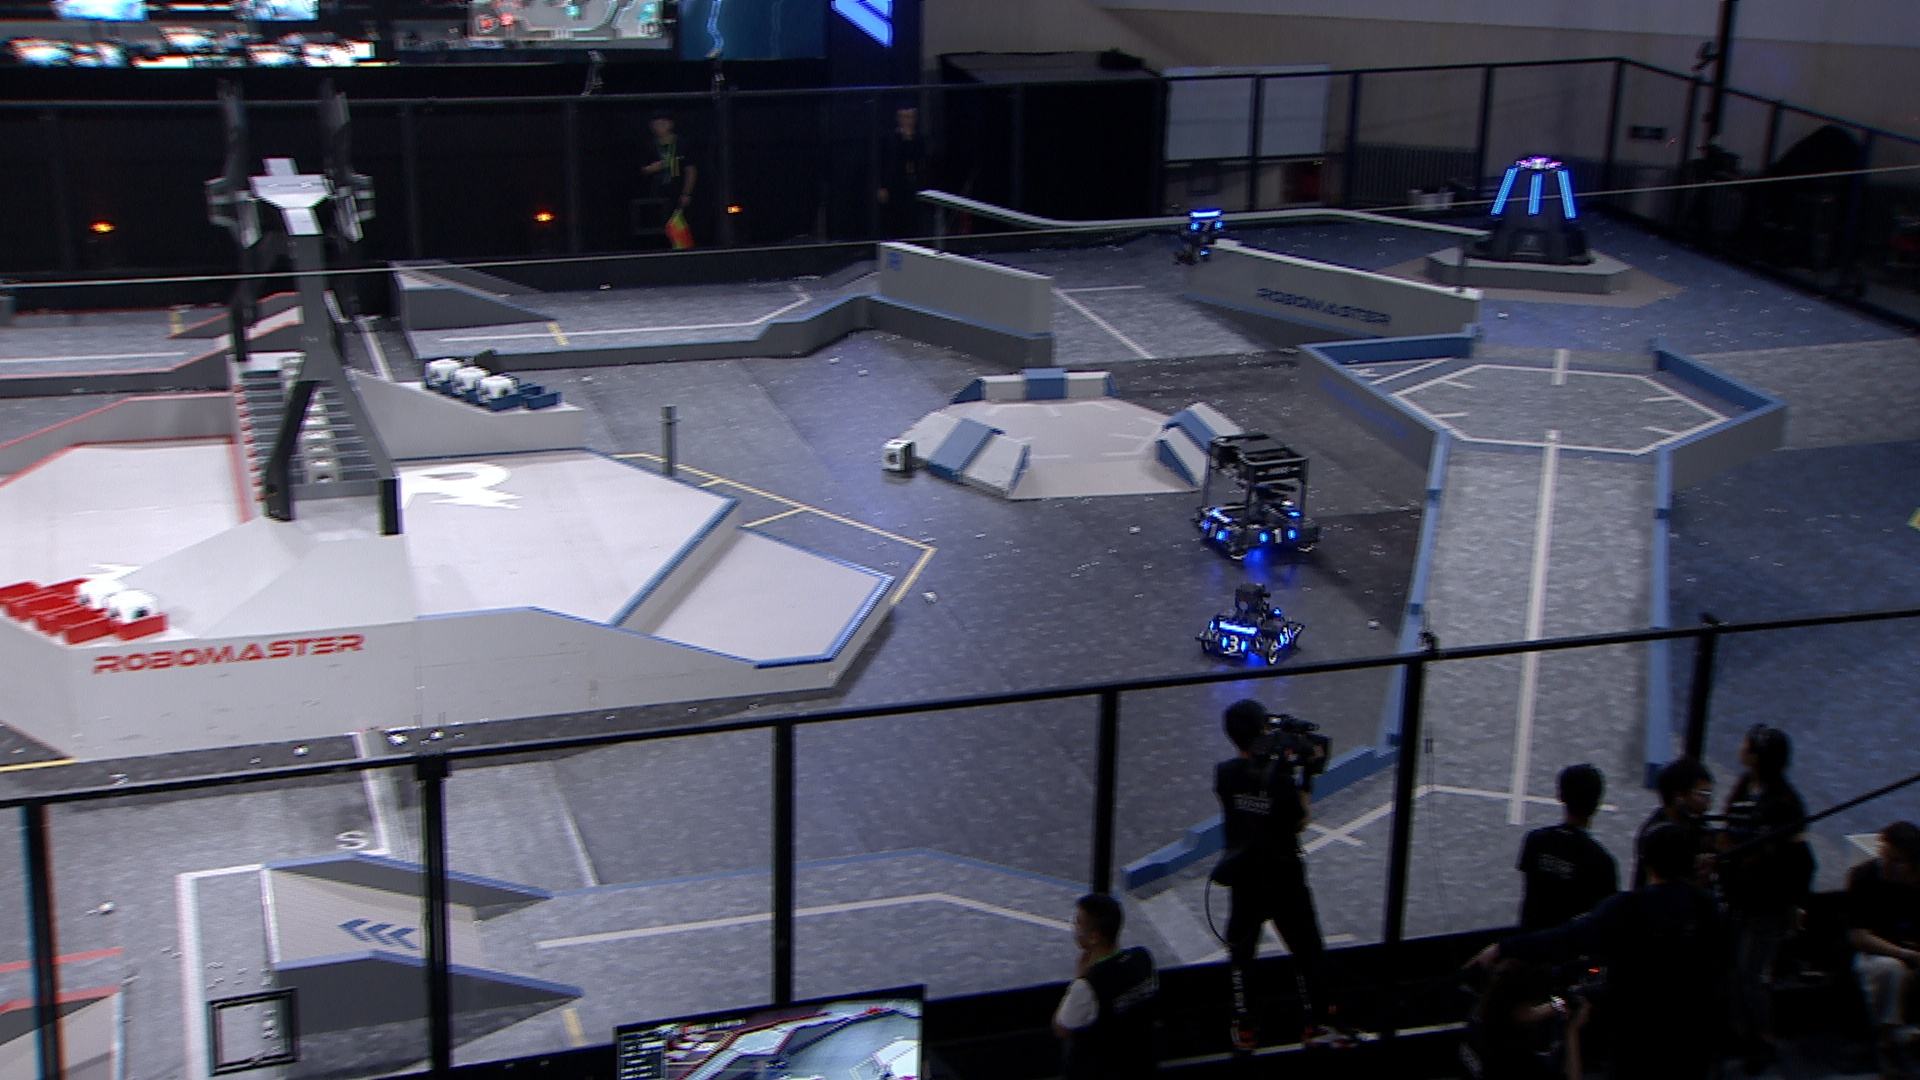armor: (1490, 164, 1520, 216), (1556, 169, 1578, 219), (1524, 169, 1544, 216), (1187, 215, 1226, 233), (1220, 632, 1249, 655), (1258, 526, 1295, 545), (1203, 518, 1226, 543), (1276, 622, 1296, 645)
base: (1458, 152, 1600, 270)
car: (1191, 429, 1323, 560), (1196, 580, 1305, 669)
ignore: (1519, 157, 1560, 171)
watcher: (1168, 196, 1230, 268)
